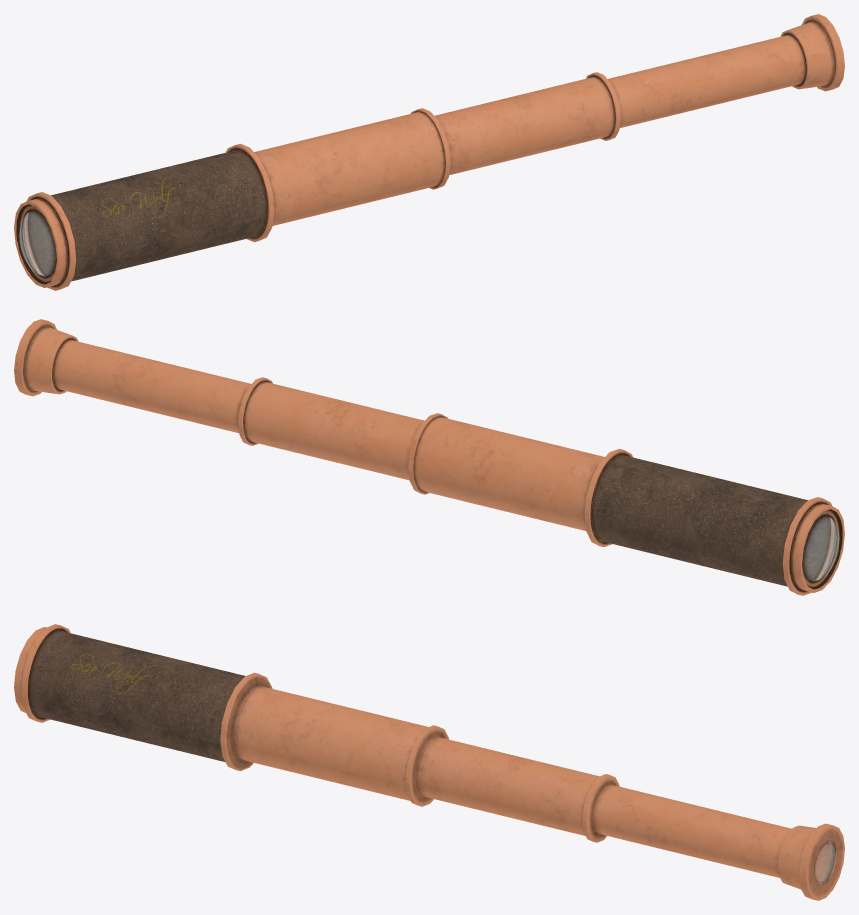
Rendered from spyglass.glb.
3 views of the same model, one above another, from view 1: azimuth 30°, elevation 25°; view 2: azimuth 150°, elevation 25°; view 3: azimuth 330°, elevation 25° (orthographic).
Parts seen in each view (by area): view 1: Spyglass, SpyglassGlassBig; view 2: Spyglass, SpyglassGlassBig; view 3: Spyglass, SpyglassGlassSmall.
Boxes of the visible parts, bbox=[...] form: Spyglass: bbox=[14, 14, 844, 290]; SpyglassGlassBig: bbox=[19, 210, 55, 276]; Spyglass: bbox=[14, 319, 844, 595]; SpyglassGlassBig: bbox=[803, 515, 839, 581]; Spyglass: bbox=[14, 624, 844, 900]; SpyglassGlassSmall: bbox=[814, 841, 835, 883].
Bounding box in the file's own units: 0.4777 × 0.0516 × 0.0516.
2 materials, 2 textured.
